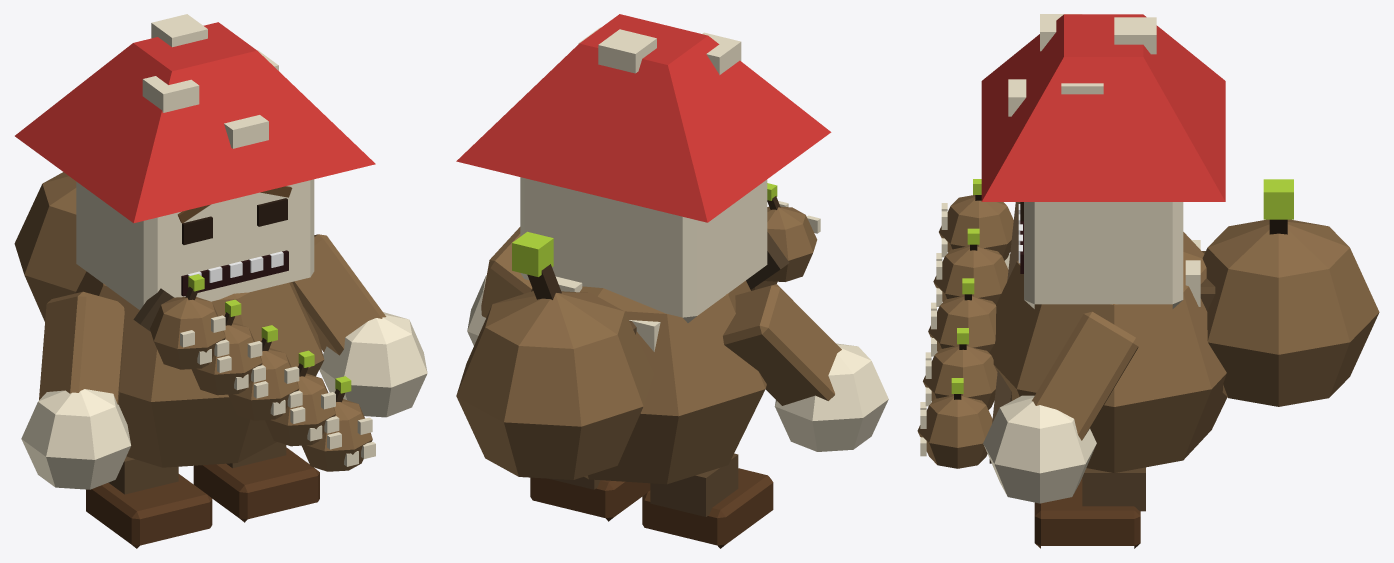
File: r6_mini_toadstool_bomber.glb
The picture shows the model from 3 angles, left to right: view 1: azimuth 30°, elevation 25°; view 2: azimuth 150°, elevation 25°; view 3: azimuth 270°, elevation 25°; orthographic projection. The views are drawn at different scales.
Parts seen in each view (by area): view 1: r6_mini_toadstool_bomber_mesh; view 2: r6_mini_toadstool_bomber_mesh; view 3: r6_mini_toadstool_bomber_mesh.
Part boxes in pixels (bbox=[...]): r6_mini_toadstool_bomber_mesh: bbox=[14, 14, 427, 548]; r6_mini_toadstool_bomber_mesh: bbox=[456, 14, 888, 548]; r6_mini_toadstool_bomber_mesh: bbox=[917, 14, 1379, 548].
Bounding box in the file's own units: 3.14 × 3.6 × 3.15.
Materials: 1 (1 with a texture image).
